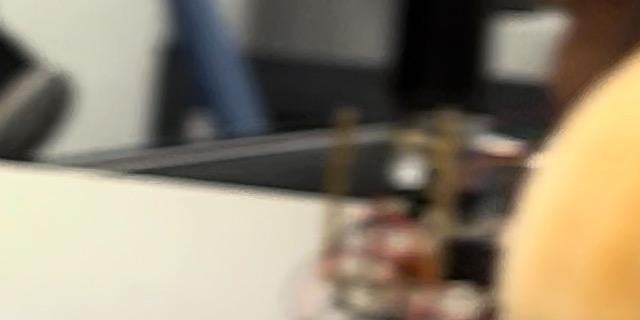burger: (401, 0, 640, 320)
